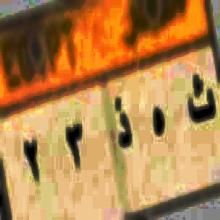2: (23, 133, 44, 188)
3: (65, 120, 87, 177)
haa: (147, 102, 167, 140)
thaa: (184, 71, 218, 123)
zaal: (111, 98, 132, 155)
